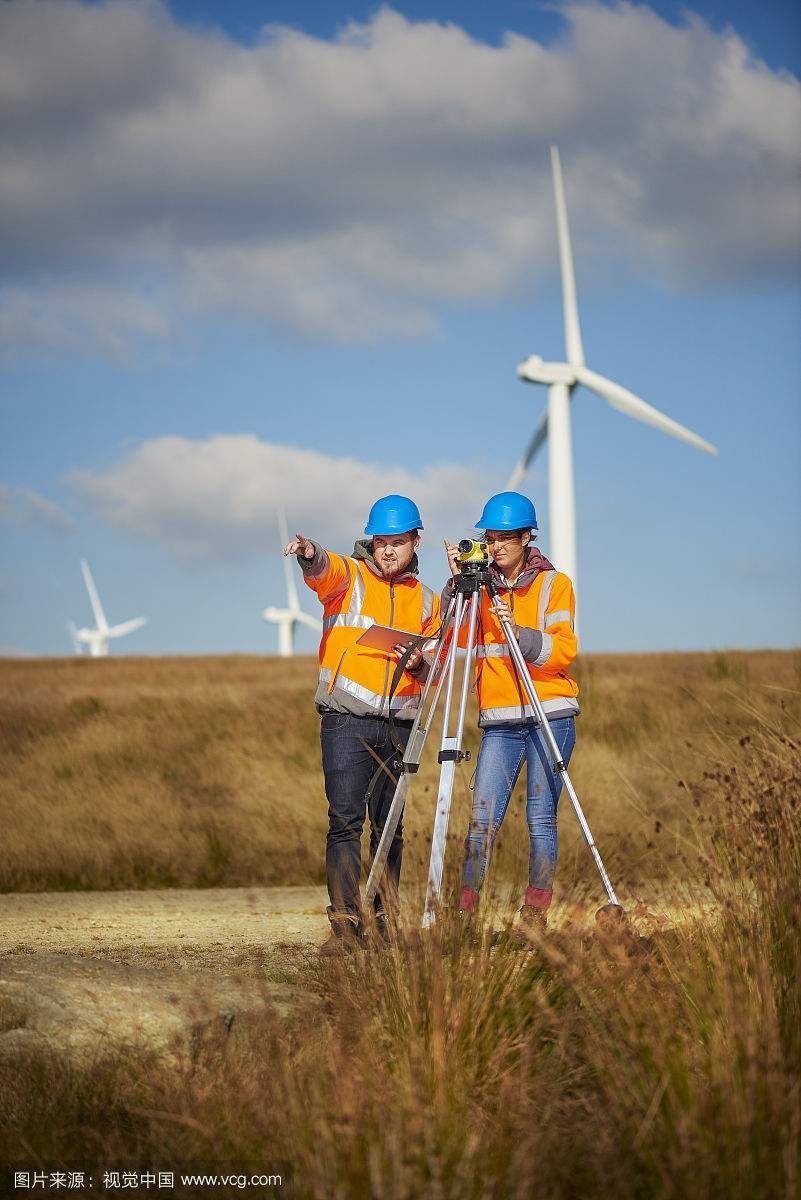blue: (474, 490, 541, 576), (360, 492, 424, 579)
